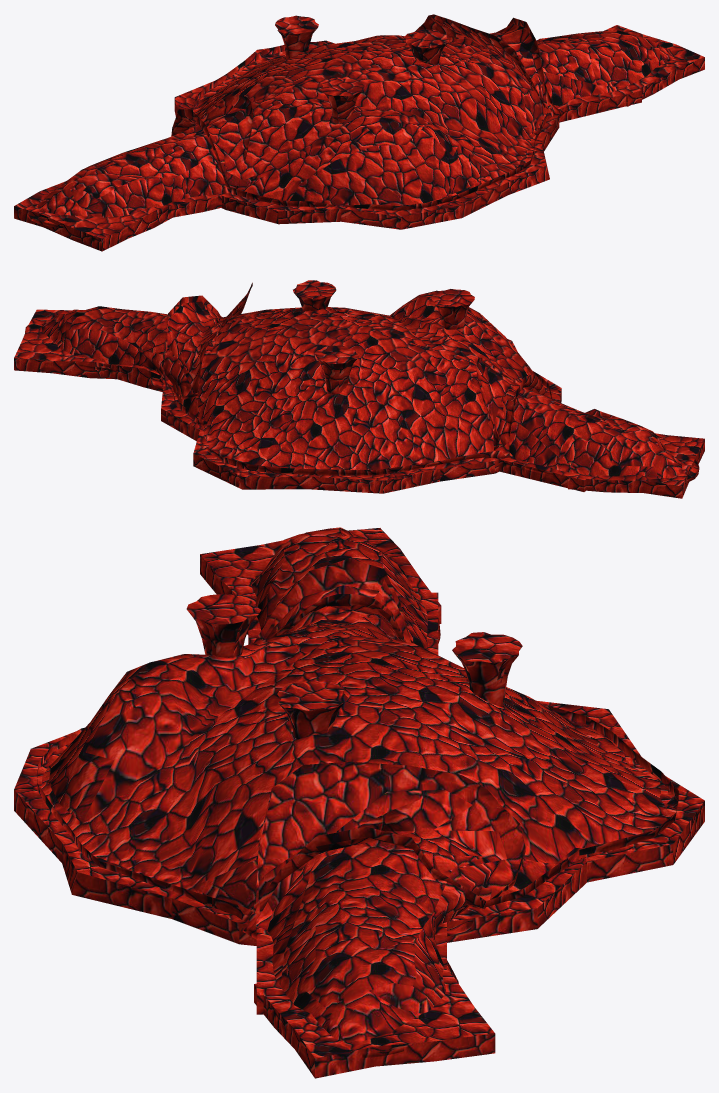
The model's file is NivelFuego.FBX.
3 views of the same model, one above another, from view 1: azimuth 30°, elevation 25°; view 2: azimuth 150°, elevation 25°; view 3: azimuth 270°, elevation 25° (orthographic). The views are drawn at different scales.
Visible parts, largest first — view 1: Piso1; view 2: Piso1; view 3: Piso1.
Part boxes in pixels (box(x1,y1,x2,y2)): Piso1: box(14, 14, 704, 251); Piso1: box(14, 280, 704, 498); Piso1: box(14, 527, 704, 1078).
Size of the model in its own units: 1981 by 294 by 1090.
Materials: 9 (9 with a texture image).
